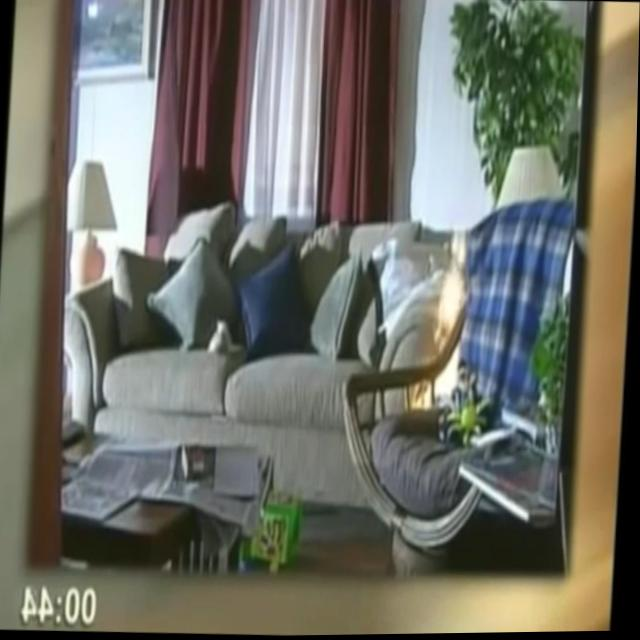fire: (412, 228, 472, 411)
